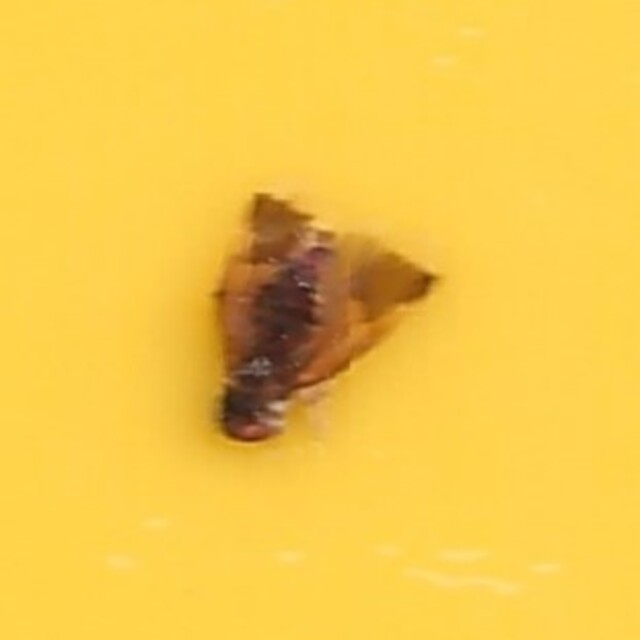Hemiptera: (206, 187, 434, 453)
